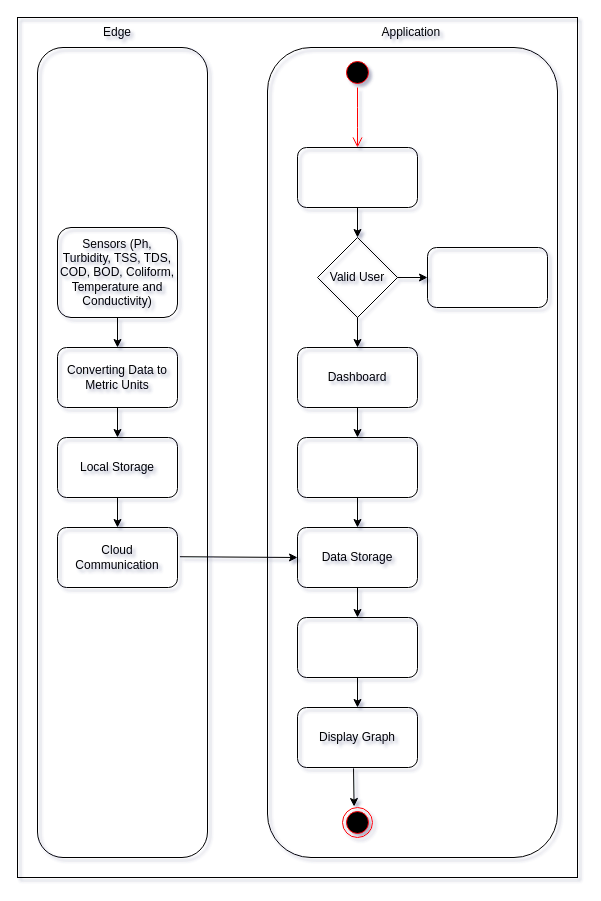
Some shapes in this 601 by 901 pixel diagram are drawn without their labels. The centre of each missing label's shape, as x and y in pixels:
"Analytics" belongs at (x=357, y=647).
"Error Message" belongs at (x=487, y=277).
"Login" belongs at (x=357, y=177).
"Water Quality Monitoring Graph" belongs at (x=357, y=467).
